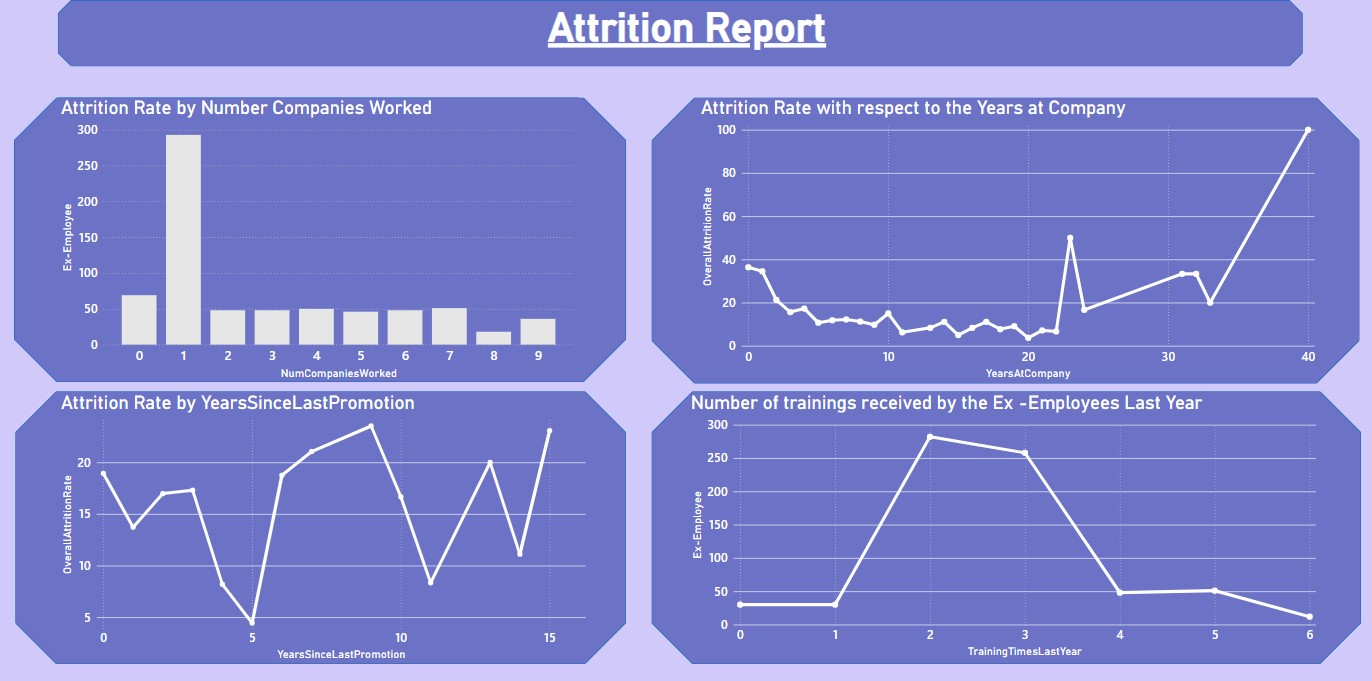

Layout of this report page (visuals, bound fields, positions):
{"tool":"powerbi","page":{"name":"Final Dashboard","canvas":[2220,1100],"ordinal":2},"visuals":[{"type":"shape","box":[95.2,0,2008.7,107.1],"z":0},{"type":"textbox","box":[847.3,0,526,90.4],"z":1000},{"type":"shape","box":[1051.9,157.1,1142.4,461.7],"z":2000},{"type":"lineChart","title":"Attrition Rate with respect to the Years at Company","fields":{"Y":["Measure.OverallAttritionRate"],"Category":["Attrition data.YearsAtCompany"]},"box":[1128.1,154.7,1002,461.7],"z":3000},{"type":"shape","box":[1051.9,630.7,1144.8,440.3],"z":4000},{"type":"lineChart","title":"Number of trainings received by the Ex -Employees Last Year","fields":{"Y":["Measure.Ex-Employee"],"Category":["Attrition data.TrainingTimesLastYear"]},"box":[1111.4,630.7,1018.6,435.5],"z":5000},{"type":"shape","box":[26.2,630.7,985.3,440.3],"z":6000},{"type":"lineChart","title":"Attrition Rate by YearsSinceLastPromotion","fields":{"Y":["Measure.OverallAttritionRate"],"Category":["Attrition data.YearsSinceLastPromotion"]},"box":[95.2,630.7,856.8,440.3],"z":7000},{"type":"shape","box":[23.8,157.1,987.7,459.3],"z":8000},{"type":"columnChart","title":"Attrition Rate by Number Companies Worked","fields":{"Category":["Attrition data.NumCompaniesWorked"],"Y":["Measure.Ex-Employee"]},"box":[95.2,154.7,837.7,461.7],"z":9000}]}

Visuals, with their boxes in screenshot pixels (x1, y1, x2, y2), scaled from the page's 2220x1100 canvas onto the 1372x681 screenshot:
shape: <bbox>59, 0, 1300, 66</bbox>
textbox: <bbox>524, 0, 849, 56</bbox>
shape: <bbox>650, 97, 1356, 383</bbox>
"Attrition Rate with respect to the Years at Company" lineChart: <bbox>697, 96, 1316, 382</bbox>
shape: <bbox>650, 390, 1358, 663</bbox>
"Number of trainings received by the Ex -Employees Last Year" lineChart: <bbox>687, 390, 1316, 660</bbox>
shape: <bbox>16, 390, 625, 663</bbox>
"Attrition Rate by YearsSinceLastPromotion" lineChart: <bbox>59, 390, 588, 663</bbox>
shape: <bbox>15, 97, 625, 382</bbox>
"Attrition Rate by Number Companies Worked" columnChart: <bbox>59, 96, 577, 382</bbox>
